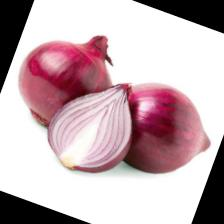onion: (3, 11, 128, 144), (101, 70, 224, 190), (35, 61, 150, 187)
